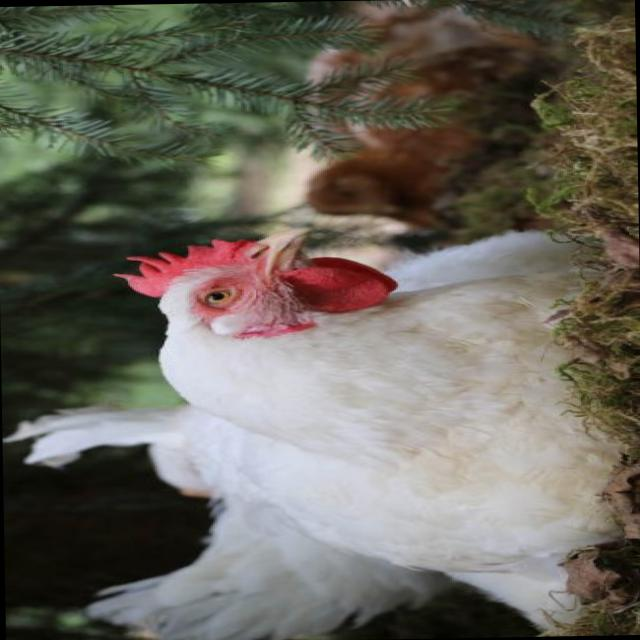Healthy: (111, 220, 612, 640)
